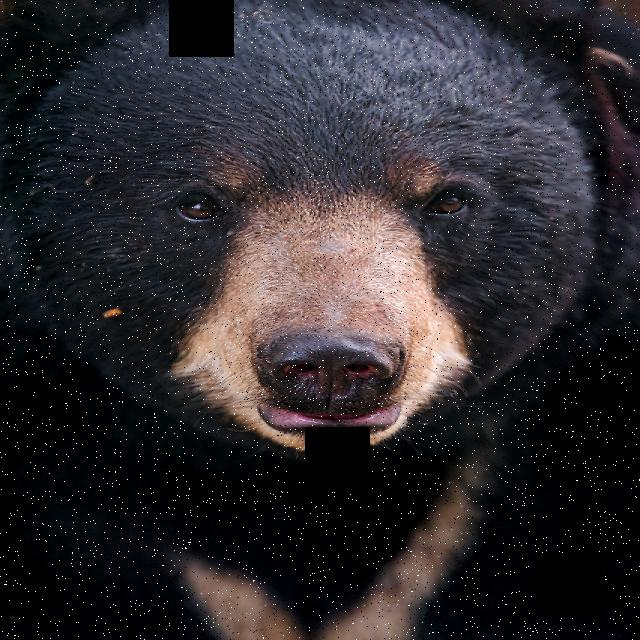Bear: (0, 1, 617, 467)
